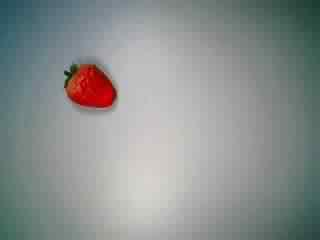strawberry: (57, 56, 123, 122)
